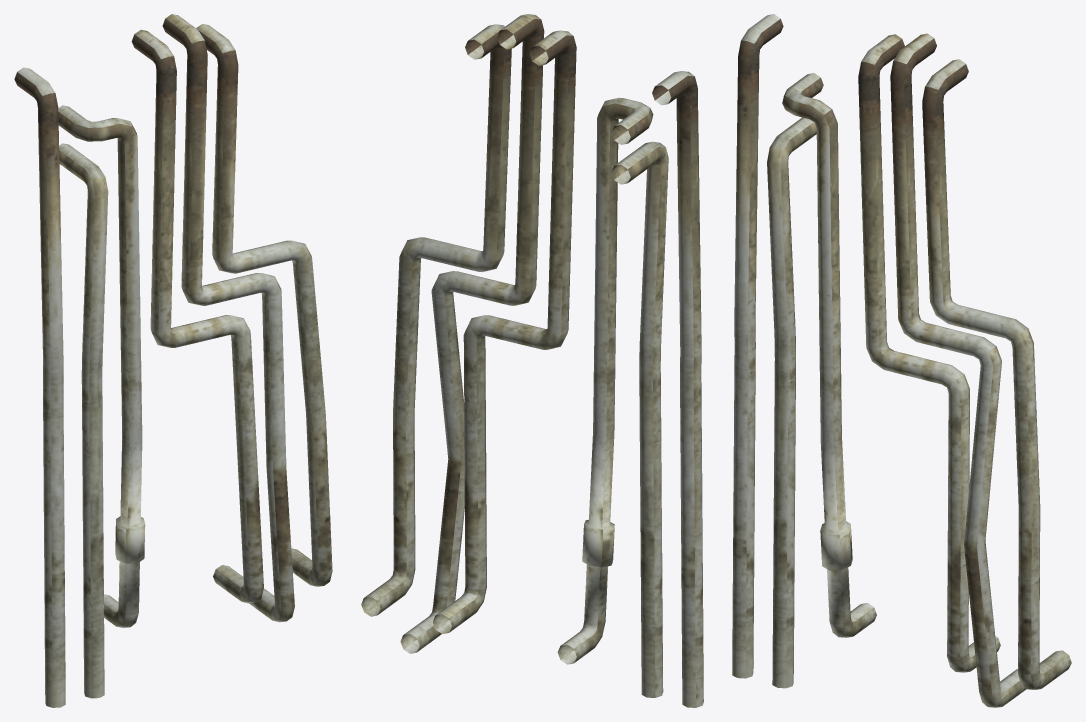
The model's file is Corridor_01_12.fbx.
The picture shows the model from 3 angles, left to right: view 1: azimuth 30°, elevation 25°; view 2: azimuth 150°, elevation 25°; view 3: azimuth 330°, elevation 25°; orthographic projection. The views are drawn at different scales.
Parts seen in each view (by area): view 1: Corridor_01_12; view 2: Corridor_01_12; view 3: Corridor_01_12.
Boxes of the visible parts, bbox=[...] form: Corridor_01_12: bbox=[14, 14, 332, 707]; Corridor_01_12: bbox=[361, 14, 703, 707]; Corridor_01_12: bbox=[732, 14, 1071, 707].
Size of the model in its own units: 126 by 262 by 34.77.
